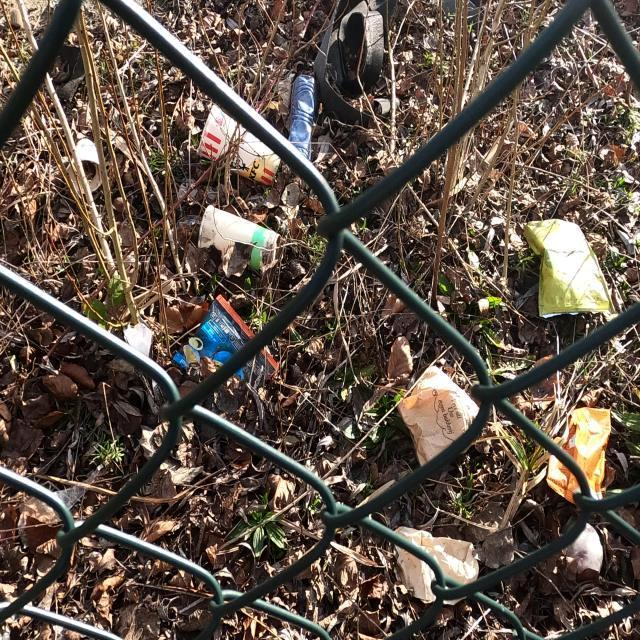Coffee Cup: (196, 102, 282, 188), (196, 204, 282, 278), (66, 136, 102, 194)
Paper: (396, 364, 480, 468), (392, 526, 480, 606)
Plastic: (172, 298, 282, 409), (522, 218, 616, 320), (546, 406, 612, 506)
